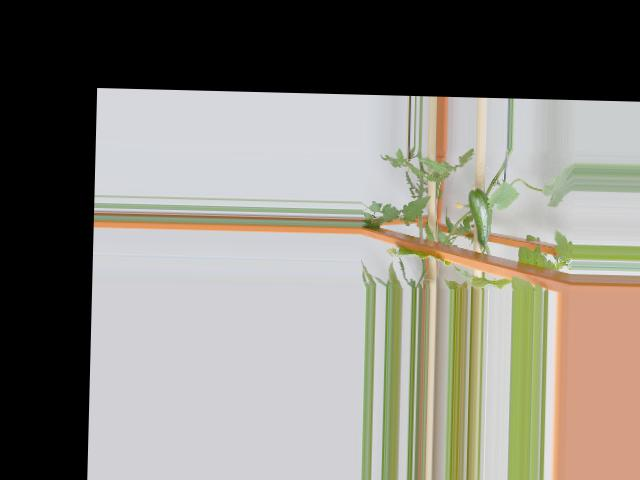cucumber: (467, 183, 492, 244)
